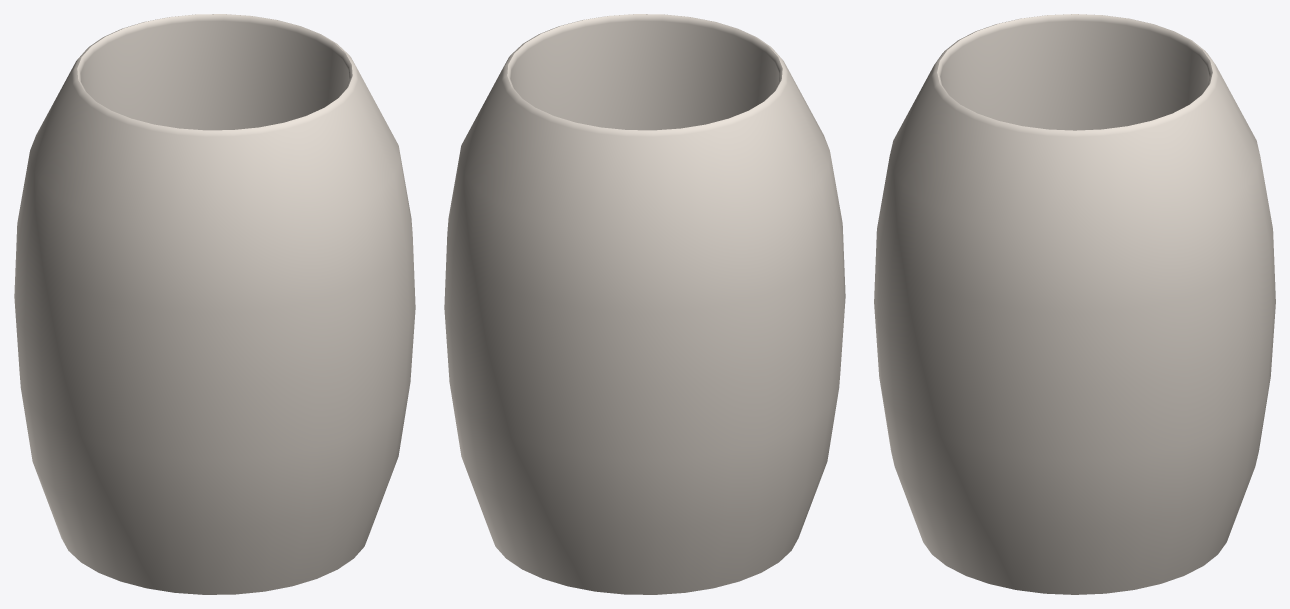
The model's file is Pot2.fbx.
The picture shows the model from 3 angles, left to right: view 1: azimuth 30°, elevation 25°; view 2: azimuth 150°, elevation 25°; view 3: azimuth 270°, elevation 25°; orthographic projection.
Parts seen in each view (by area): view 1: Pot3; view 2: Pot3; view 3: Pot3.
Part boxes in pixels (left/top/right/bottom): Pot3: left=14, top=14, right=415, bottom=594; Pot3: left=444, top=14, right=845, bottom=594; Pot3: left=874, top=14, right=1275, bottom=594.
Size of the model in its own units: 11.95 by 15.01 by 11.95.
